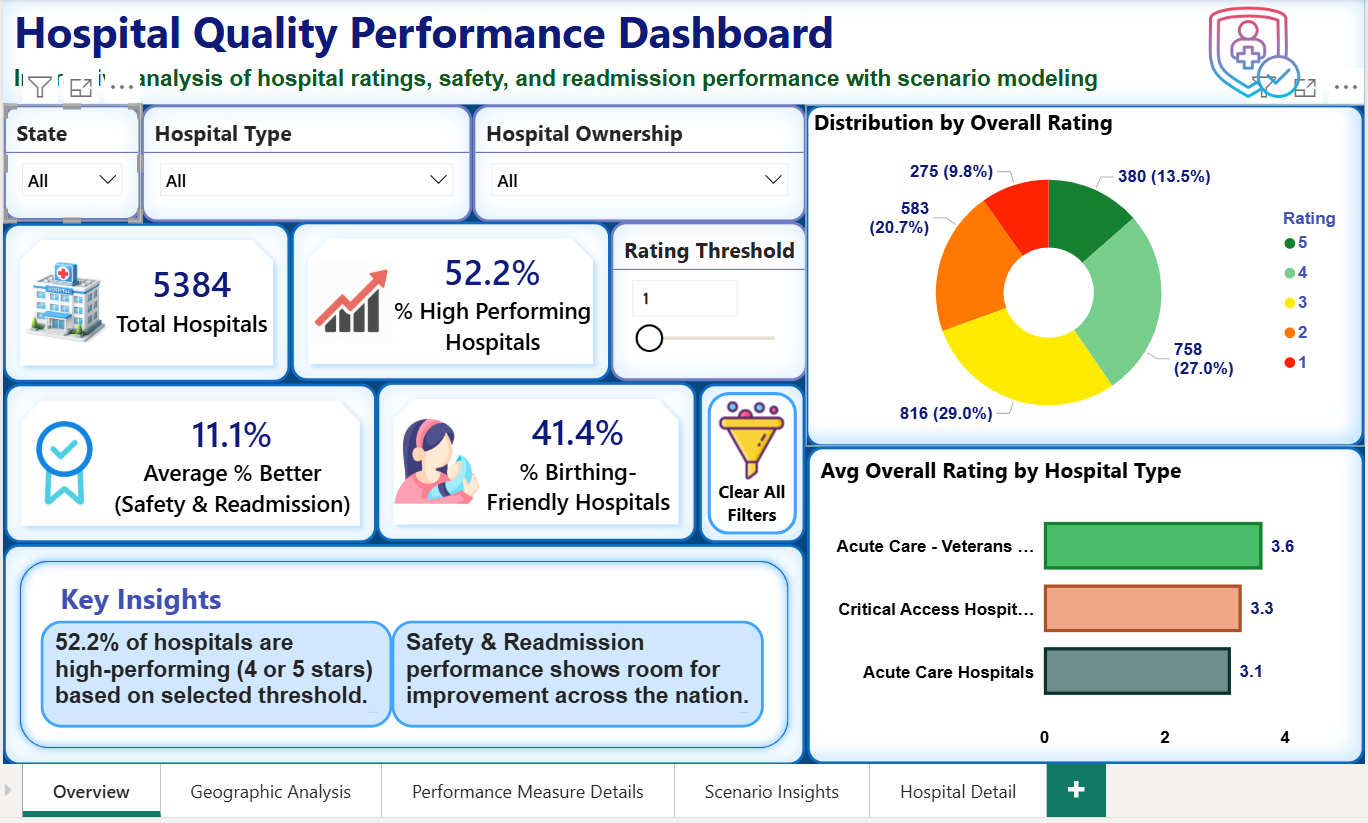

The dashboard page shown, as its layout file describes it:
{"tool":"powerbi","page":{"name":"Overview","canvas":[1280,720],"ordinal":0},"visuals":[{"type":"cardVisual","title":"Total Hospitals","fields":{"Data":["Measures_Table.Total Hospitals"]},"box":[0,210.9,270,150],"z":0},{"type":"slicer","title":"Hospital Type","fields":{"Values":["Dim_HospitalType.Hospital_Type"]},"box":[129.7,100,311,111],"z":1000},{"type":"slicer","title":"Hospital Ownership","fields":{"Values":["Dim_HospitalOwnership.Hospital_Ownership"]},"box":[440.8,100,314.2,111],"z":2000},{"type":"cardVisual","fields":{"Data":["Measures_Table.AVG_PCT_Better_SafetyReadM"]},"box":[1.6,362.7,350,150.2],"z":3000},{"type":"cardVisual","fields":{"Data":["Measures_Table.PCT Birthing Friendly"]},"box":[351.5,361.1,300.4,150.2],"z":4000},{"type":"slicer","title":"Rating Threshold","fields":{"Values":["Rating Threshold.Rating Threshold"]},"box":[570.4,210,185.3,150],"z":5000},{"type":"textbox","title":"Hospital Quality Performance Dashboard","box":[0,0,1280.1,100],"z":6000},{"type":"slicer","title":"State","fields":{"Values":["Dim_State.State"]},"box":[0,100,129.7,109.4],"z":7000},{"type":"cardVisual","fields":{"Data":["Measures_Table.High_Performing_Count_PCT"]},"box":[270,210,300.4,150.2],"z":8000},{"type":"donutChart","title":"Distribution by Overall Rating","fields":{"Y":["CountNonNull(Fact_Hospital.Facility_ID)"],"Category":["Fact_Hospital.Hospital overall rating"]},"box":[754.9,100,525.2,322],"z":9000},{"type":"barChart","title":"Avg Overall Rating by Hospital Type","fields":{"Category":["Dim_HospitalType.Hospital_Type"],"Y":["Measures_Table.Avg Overall Rating","Measures_Table.Avg Overall Rating"]},"box":[755.7,421.8,524,298.8],"z":10000},{"type":"shape","title":"Key Insights","box":[0,512.9,754.1,207.7],"z":11000},{"type":"textbox","title":"Key Insights","box":[30,545,200,40],"z":12000},{"type":"textbox","title":"52.2% of hospitals are high-performing (4 or 5 stars) based on selected threshold.","box":[35,585,330.7,100.7],"z":13000},{"type":"image","box":[1073.5,1.6,206.6,99.2],"z":14000},{"type":"textbox","title":"Safety & Readmission performance shows room for improvement across the nation.","box":[365.9,585,349.9,100.7],"z":15000},{"type":"actionButton","box":[654.8,362.1,100.1,150.2],"z":16000}]}

Visuals, with their boxes in screenshot pixels (x1, y1, x2, y2):
"Total Hospitals" cardVisual: [4, 219, 288, 377]
"Hospital Type" slicer: [140, 102, 468, 219]
"Hospital Ownership" slicer: [468, 102, 799, 219]
cardVisual - Measures_Table.AVG_PCT_Better_SafetyReadM: [5, 379, 374, 537]
cardVisual - Measures_Table.PCT Birthing Friendly: [374, 377, 691, 535]
"Rating Threshold" slicer: [605, 218, 800, 376]
"Hospital Quality Performance Dashboard" textbox: [4, 0, 1353, 102]
"State" slicer: [4, 102, 140, 217]
cardVisual - Measures_Table.High_Performing_Count_PCT: [288, 218, 605, 376]
"Distribution by Overall Rating" donutChart: [799, 102, 1353, 441]
"Avg Overall Rating by Hospital Type" barChart: [800, 441, 1352, 756]
"Key Insights" shape: [4, 537, 798, 756]
"Key Insights" textbox: [35, 571, 246, 613]
"52.2% of hospitals are high-performing (4 or 5 stars) based on selected threshold." textbox: [40, 613, 389, 719]
image: [1135, 0, 1353, 103]
"Safety & Readmission performance shows room for improvement across the nation." textbox: [389, 613, 758, 719]
actionButton: [694, 378, 799, 536]
